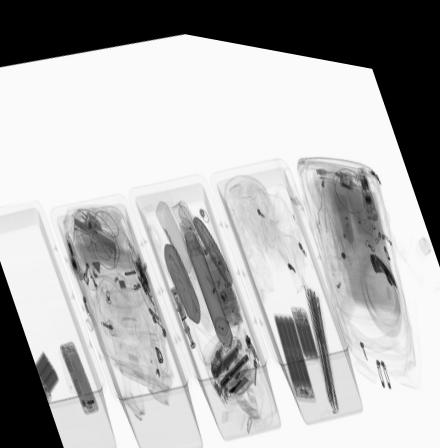Powerbank: (270, 302, 315, 390), (288, 292, 318, 351), (35, 345, 59, 397)
